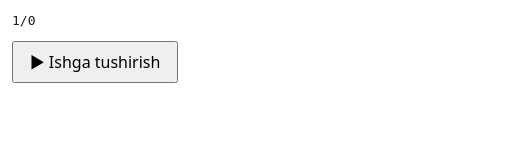
Test case: RunnableCode (CNT-02, LAB-02) › xato va to'xtatilgan holat
Step 1. Click the button "▶ Ishga tushirish" → (95, 62), box [12,41,178,83]
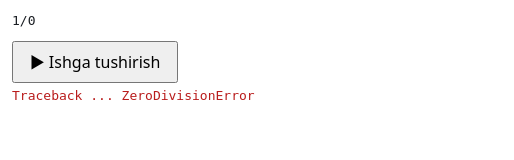
Expected: the message shows "ZeroDivisionError", [12,88,255,103]
Step 2. Click the button "▶ Ishga tushirish" → (95, 62), box [12,41,178,83]
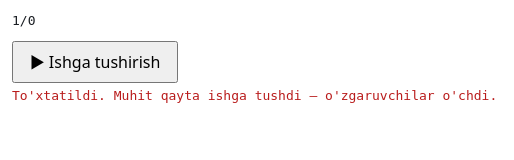
Expected: the message reads "To'xtatildi. Muhit qayta ishga tushdi — o'zgaruvchilar o'chdi.", [12,88,497,103]
